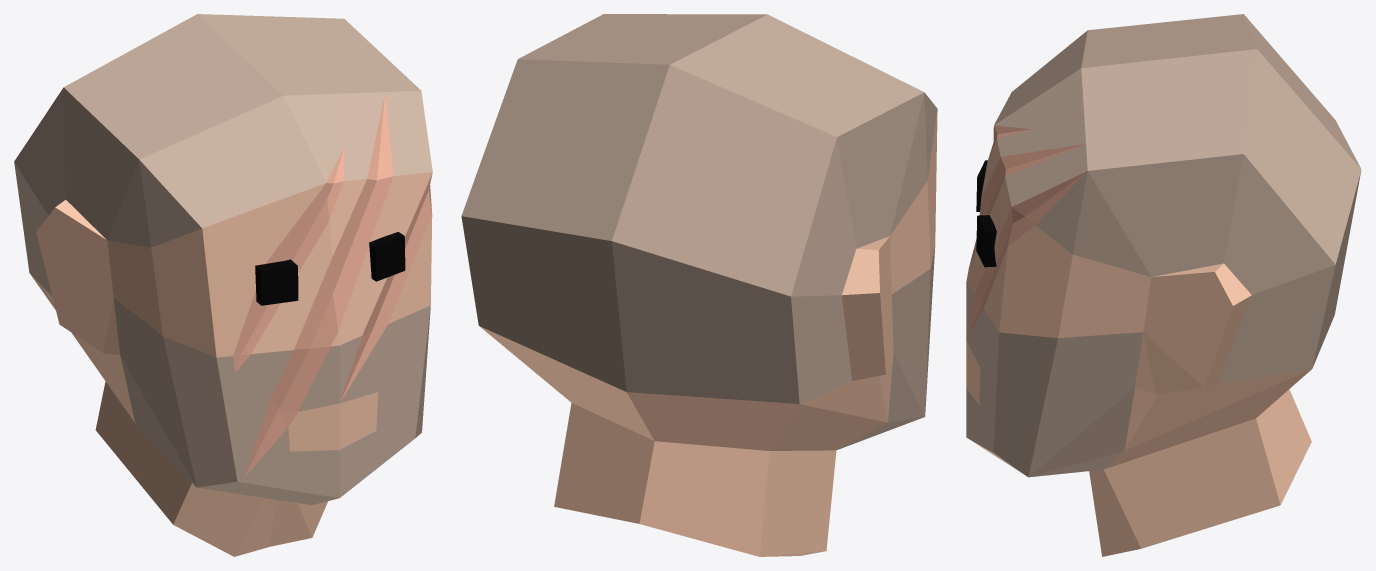
Rendered from Chr_Head_Male_05_Static.fbx.
3 renders of one model, left to right at view 1: azimuth 30°, elevation 25°; view 2: azimuth 150°, elevation 25°; view 3: azimuth 270°, elevation 25°, orthographic. The views are drawn at different scales.
Visible parts, largest first — view 1: Chr_Head_Male_05_Static; view 2: Chr_Head_Male_05_Static; view 3: Chr_Head_Male_05_Static.
Part boxes in pixels (box(x1,y1,x2,y2)): Chr_Head_Male_05_Static: box(14, 14, 432, 556); Chr_Head_Male_05_Static: box(461, 14, 937, 556); Chr_Head_Male_05_Static: box(966, 14, 1361, 556).
Size of the model in its own units: 0.2661 by 0.3523 by 0.2574.
